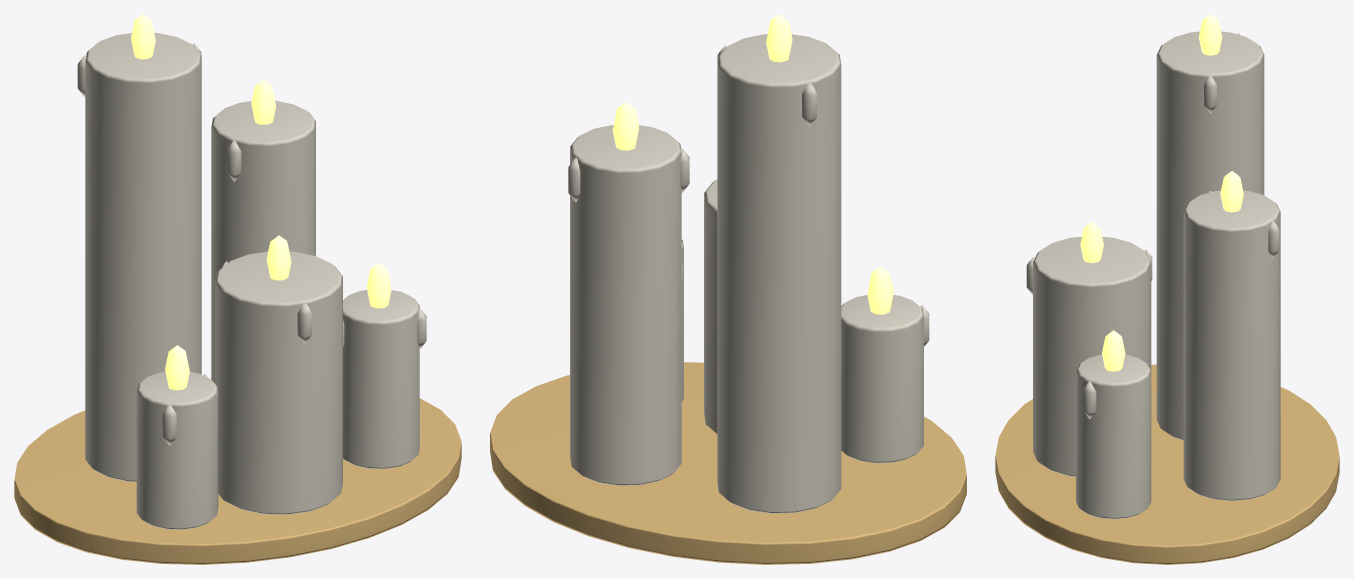
Rendered from Floor_Candle_Cluster.fbx.
3 renders of one model, left to right at view 1: azimuth 30°, elevation 25°; view 2: azimuth 150°, elevation 25°; view 3: azimuth 270°, elevation 25°, orthographic. The views are drawn at different scales.
Visible parts, largest first — view 1: Floor_Candle_Cluster_Mesh; view 2: Floor_Candle_Cluster_Mesh; view 3: Floor_Candle_Cluster_Mesh.
Part boxes in pixels (bbox=[...]): Floor_Candle_Cluster_Mesh: bbox=[14, 14, 461, 564]; Floor_Candle_Cluster_Mesh: bbox=[490, 14, 966, 564]; Floor_Candle_Cluster_Mesh: bbox=[995, 14, 1339, 564].
Size of the model in its own units: 0.4 by 0.439 by 0.32.
